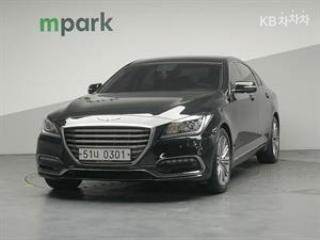0: (102, 150, 109, 161), (114, 149, 121, 160)
1: (121, 149, 126, 160), (88, 150, 94, 159)
3: (108, 149, 115, 159)
5: (83, 150, 89, 159)
plate: (74, 144, 136, 166)
나: (93, 149, 101, 159)
